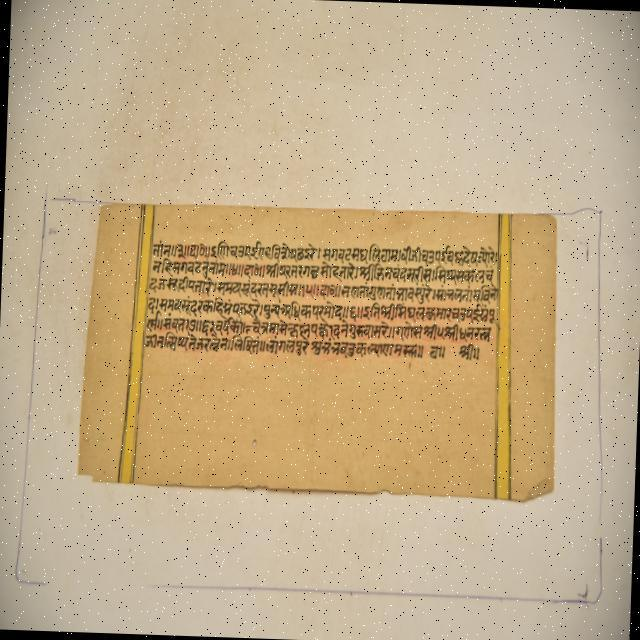text_paragraph: (79, 195, 553, 500)
